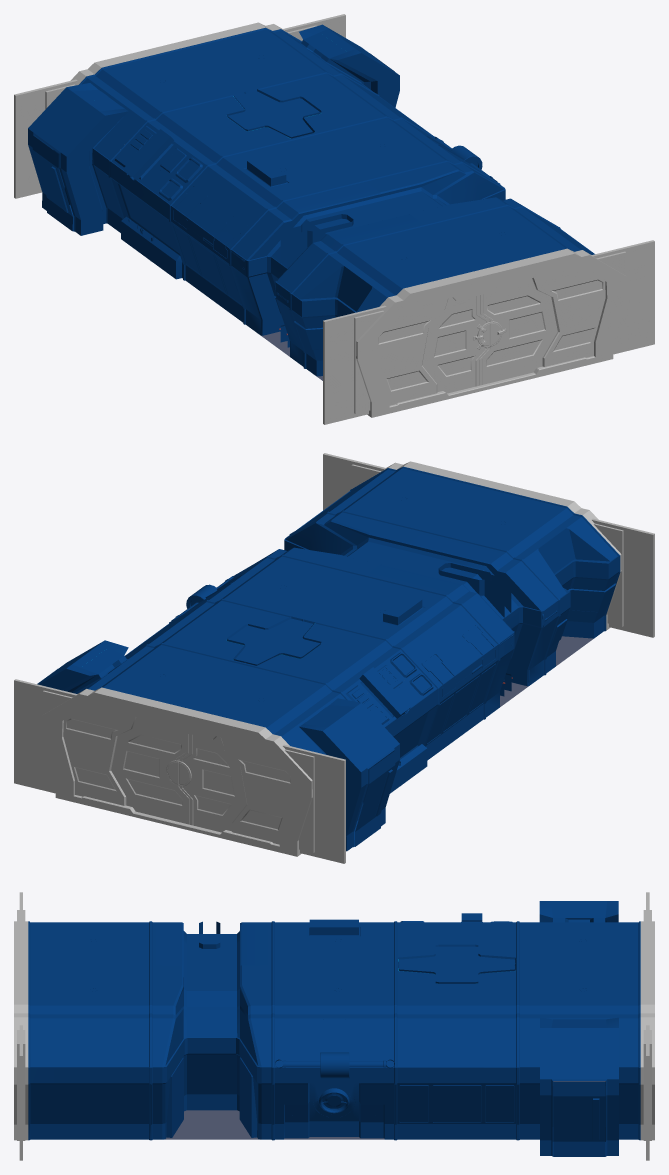
3 views of the same model, one above another, from view 1: azimuth 30°, elevation 25°; view 2: azimuth 150°, elevation 25°; view 3: azimuth 270°, elevation 25° (orthographic).
Parts seen in each view (by area): view 1: SM_wall_R_D, SM_roof_E, SM_roof_C, SM_roof_A, SM_roof_B, SM_SM_door_R (×2), SM_SM_door_L, UCK_SM_door_frame (×2), SM_wall_R_B, SM_SM_door_frame, SM_wall_R_C, SM_wall_R_A (+7 smaller); view 2: SM_SM_door_R (×2), SM_wall_R_D, SM_roof_A, SM_roof_C, SM_roof_E, SM_roof_B, SM_SM_door_L (×2), SM_SM_door_frame, UCK_SM_door_frame (×2), SM_wall_R_C, SM_sidewall_R_E, SM_SM_door_side_R (×2) (+7 smaller); view 3: SM_wall_L_D, SM_sidewall_L_E, SM_wall_L_B, SM_wall_L_C, SM_roof_C, SM_roof_E, SM_roof_A, SM_roof_B, SM_wall_in_door_A, SM_wall_L_A, SM_wall_R_D, UCK_SM_door_frame (×2) (+6 smaller).
Boxes of the visible parts, <box> form: SM_wall_R_D: <box>229,180,424,368</box>; SM_roof_E: <box>328,204,582,297</box>; SM_roof_C: <box>207,116,461,208</box>; SM_roof_A: <box>87,27,340,120</box>; SM_roof_B: <box>147,72,400,164</box>; SM_SM_door_R (×2): <box>14,79,504,424</box>; SM_SM_door_L: <box>479,240,654,385</box>; UCK_SM_door_frame (×2): <box>70,22,627,417</box>; SM_wall_R_B: <box>109,121,206,279</box>; SM_SM_door_frame: <box>357,254,627,417</box>; SM_wall_R_C: <box>169,165,266,323</box>; SM_wall_R_A: <box>33,76,146,235</box>; SM_SM_door_R (×2): <box>166,518,654,863</box>; SM_wall_R_D: <box>365,531,559,718</box>; SM_roof_A: <box>86,643,340,735</box>; SM_roof_C: <box>207,555,461,647</box>; SM_roof_E: <box>328,466,581,559</box>; SM_roof_B: <box>147,599,400,691</box>; SM_SM_door_L (×2): <box>14,453,386,824</box>; SM_SM_door_frame: <box>41,692,311,856</box>; UCK_SM_door_frame (×2): <box>42,461,621,856</box>; SM_wall_R_C: <box>402,604,499,760</box>; SM_sidewall_R_E: <box>522,515,620,674</box>; SM_SM_door_side_R (×2): <box>221,523,623,852</box>; SM_wall_L_D: <box>151,964,273,1140</box>; SM_sidewall_L_E: <box>28,1017,150,1140</box>; SM_wall_L_B: <box>395,1017,517,1140</box>; SM_wall_L_C: <box>273,1017,395,1140</box>; SM_roof_C: <box>273,919,395,1018</box>; SM_roof_E: <box>28,921,150,1018</box>; SM_roof_A: <box>518,921,640,1018</box>; SM_roof_B: <box>395,921,517,1018</box>; SM_wall_in_door_A: <box>540,1028,618,1156</box>; SM_wall_L_A: <box>518,1017,640,1155</box>; SM_wall_R_D: <box>151,921,273,971</box>; UCK_SM_door_frame (×2): <box>14,921,654,1140</box>.
Bounding box in the file's own units: 1131 × 406 × 1828.
